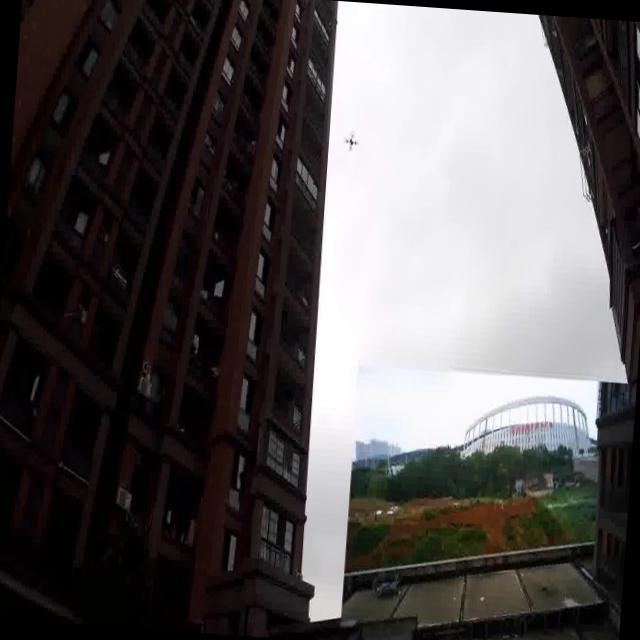drone: (342, 130, 358, 152)
